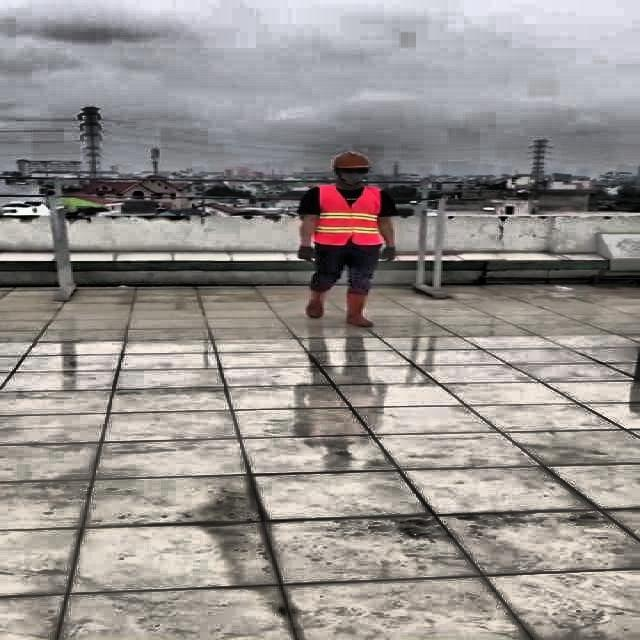safety_helmet: (331, 150, 372, 169)
safety_jacket: (314, 185, 386, 245)
